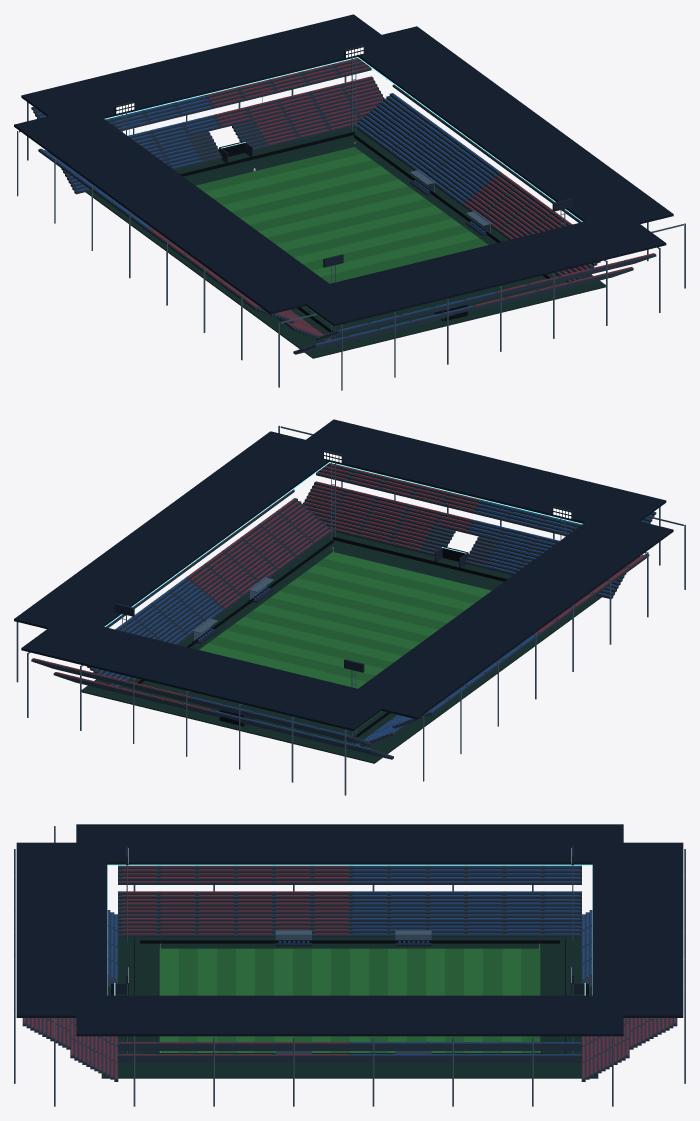
Rendered from stadium.glb.
3 renders of one model, top to bottom at view 1: azimuth 30°, elevation 25°; view 2: azimuth 150°, elevation 25°; view 3: azimuth 270°, elevation 25°, orthographic. The views are drawn at different scales.
Parts seen in each view (by area): view 1: arena_roof, arena_tread, arena_turfB, arena_apron, arena_turfA, arena_seatRed, arena_seatBlue, arena_steel, arena_concrete, arena_trim, LED_end, LED_east; view 2: arena_roof, arena_tread, arena_turfA, arena_apron, arena_turfB, arena_seatRed, arena_seatBlue, arena_steel, arena_concrete, arena_trim, LED_far, LED_east; view 3: arena_roof, arena_tread, arena_apron, arena_seatRed, arena_turfA, arena_turfB, arena_seatBlue, arena_steel, LED_west, arena_trim, arena_concrete.
Boxes of the visible parts, bbox=[...] form: arena_roof: bbox=[14, 14, 673, 326]; arena_tread: bbox=[31, 58, 656, 354]; arena_turfB: bbox=[196, 147, 487, 319]; arena_apron: bbox=[85, 126, 605, 358]; arena_turfA: bbox=[204, 153, 487, 325]; arena_seatRed: bbox=[148, 58, 653, 340]; arena_seatBlue: bbox=[33, 85, 501, 344]; arena_steel: bbox=[17, 56, 685, 390]; arena_concrete: bbox=[114, 45, 572, 321]; arena_trim: bbox=[104, 57, 582, 221]; LED_end: bbox=[180, 131, 354, 176]; LED_east: bbox=[354, 134, 550, 278]; arena_roof: bbox=[14, 419, 673, 731]; arena_tread: bbox=[31, 463, 656, 759]; arena_turfA: bbox=[199, 552, 491, 724]; arena_apron: bbox=[81, 531, 601, 763]; arena_turfB: bbox=[199, 558, 482, 731]; arena_seatRed: bbox=[33, 463, 646, 711]; arena_seatBlue: bbox=[95, 500, 653, 749]; arena_steel: bbox=[16, 425, 685, 795]; arena_concrete: bbox=[114, 450, 572, 726]; arena_trim: bbox=[104, 462, 582, 626]; LED_far: bbox=[333, 536, 507, 581]; LED_east: bbox=[137, 539, 333, 683]; arena_roof: bbox=[16, 824, 683, 1036]; arena_tread: bbox=[22, 865, 677, 1081]; arena_apron: bbox=[101, 937, 598, 1078]; arena_seatRed: bbox=[23, 865, 676, 1078]; arena_turfA: bbox=[159, 948, 521, 1052]; arena_turfB: bbox=[178, 948, 540, 1052]; arena_seatBlue: bbox=[107, 865, 592, 1055]; arena_steel: bbox=[14, 826, 685, 1106]; LED_west: bbox=[140, 940, 559, 943]; arena_trim: bbox=[107, 864, 592, 995]; arena_concrete: bbox=[111, 846, 588, 994].
Bounding box in the file's own units: 138 × 27.69 × 185.
